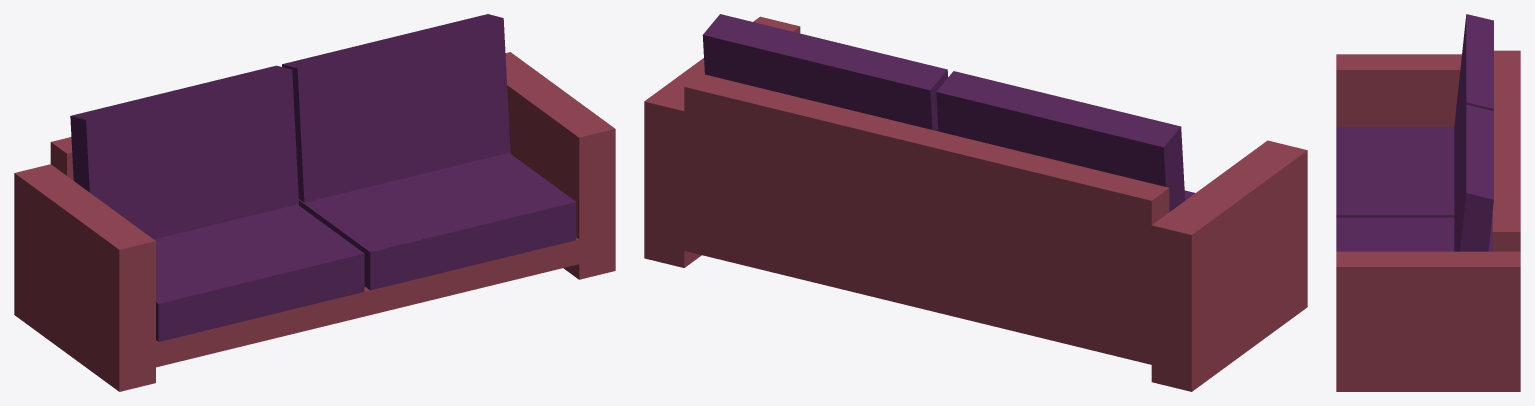
File: Couch.fbx
3 renders of one model, left to right at view 1: azimuth 30°, elevation 25°; view 2: azimuth 150°, elevation 25°; view 3: azimuth 270°, elevation 25°, orthographic. The views are drawn at different scales.
Visible parts, largest first — view 1: Cube; view 2: Cube; view 3: Cube.
Part boxes in pixels (x1,y1,x2,y2): Cube: [14, 14, 615, 391]; Cube: [644, 14, 1307, 391]; Cube: [1336, 14, 1520, 391].
Size of the model in its own units: 545 by 218 by 200.
